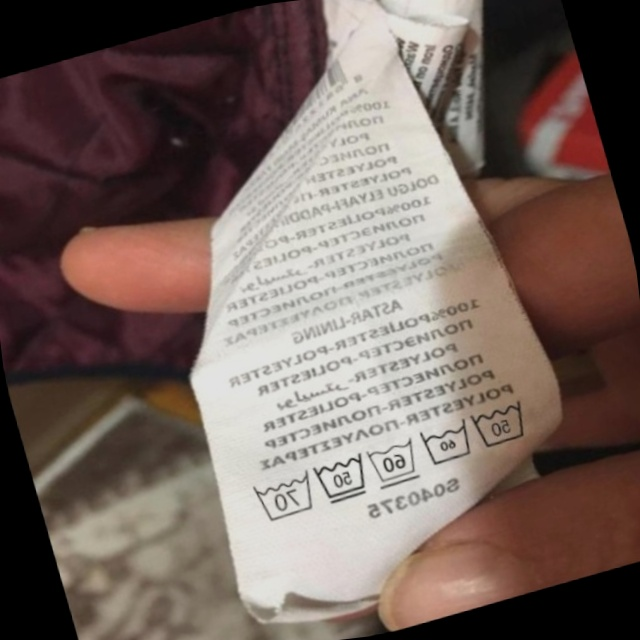50C: (461, 389, 539, 458), (305, 446, 377, 513)
60C: (358, 430, 426, 495), (411, 412, 480, 475)
70C: (243, 465, 321, 530)
